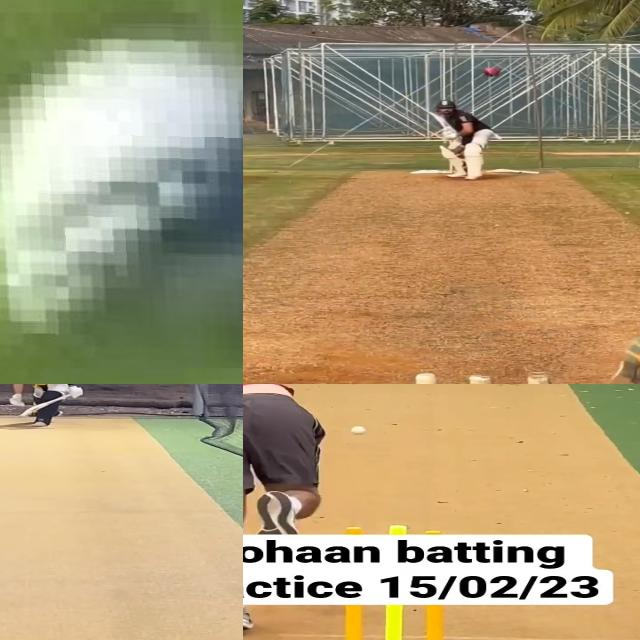Cricket ball: (0, 22, 243, 368), (482, 66, 501, 78), (350, 426, 367, 435)
Stumps: (329, 604, 459, 640)
